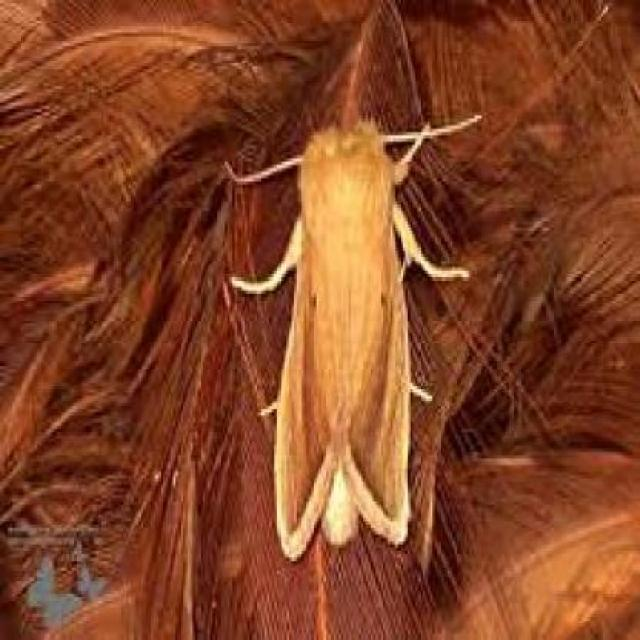stem-borer: (271, 112, 417, 565)
